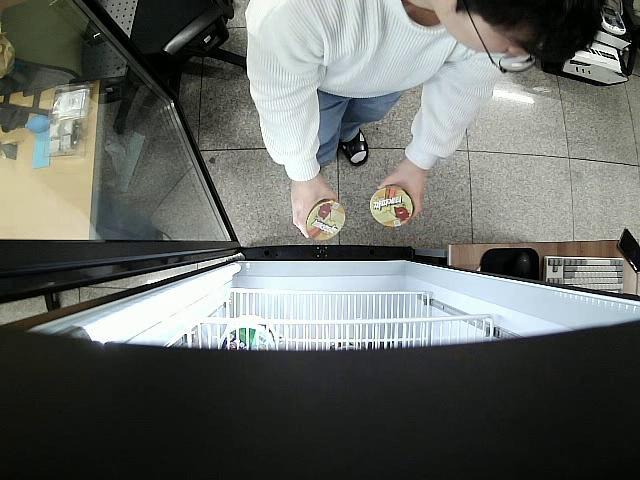04_chapagetti_S: (368, 186, 414, 228), (304, 199, 344, 240)
